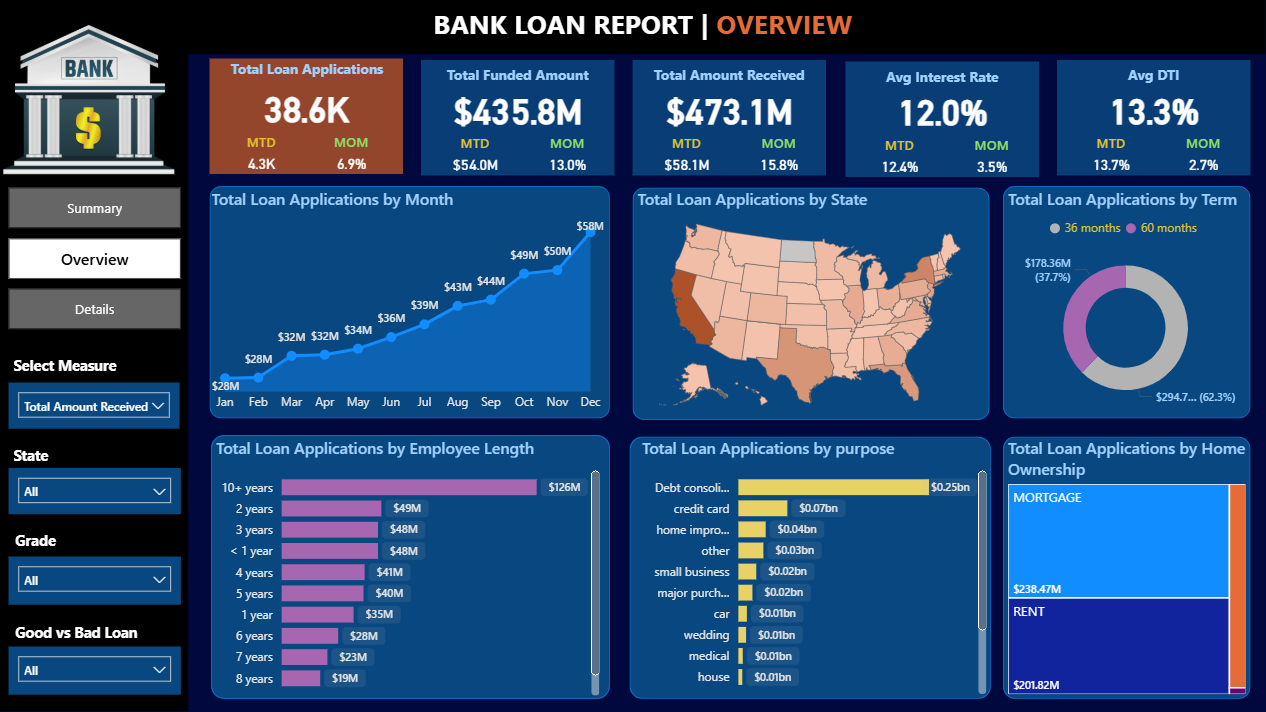

This screenshot's page, from the dashboard's own definition file:
{"tool":"powerbi","page":{"name":"Overview","canvas":[1280,720],"ordinal":1},"visuals":[{"type":"shape","box":[213.5,187.8,404.3,234.7],"z":0},{"type":"shape","box":[0,0,1279.5,54.5],"z":1000},{"type":"shape","box":[0,54.5,192.3,664.7],"z":2000},{"type":"shape","box":[213.3,59.1,195.3,116.6],"z":2000,"group":"g1"},{"type":"textbox","box":[434.6,0,443.7,54.5],"z":3000},{"type":"group","id":"g1","title":"Group 1","box":[209.9,53.8,202.9,121.9],"z":4000},{"type":"shape","box":[427.2,60.6,195.3,116.6],"z":4000,"group":"g2"},{"type":"shape","box":[641.1,60.6,195.3,116.6],"z":4000,"group":"g4"},{"type":"shape","box":[1069,60.6,195.3,116.6],"z":4000,"group":"g3"},{"type":"shape","box":[855.1,62.1,195.3,116.6],"z":4000,"group":"g5"},{"type":"card","fields":{"Values":["financial_loan.Tatal Loan Applications"]},"box":[213.3,81.8,195.3,51.5],"z":4000,"group":"g1"},{"type":"textbox","box":[209.9,53.8,202.9,46.9],"z":5000,"group":"g1"},{"type":"group","id":"g2","title":"Group 2","box":[427.2,60.6,195.3,116.6],"z":5000},{"type":"card","fields":{"Values":["financial_loan.Total Funded Amount"]},"box":[427.2,83.3,195.3,51.5],"z":5000,"group":"g2"},{"type":"card","fields":{"Values":["financial_loan.Total Amount Received"]},"box":[641.1,83.3,195.3,51.5],"z":5000,"group":"g4"},{"type":"card","fields":{"Values":["financial_loan.Avg DTI"]},"box":[1069,83.3,195.3,51.5],"z":5000,"group":"g3"},{"type":"card","fields":{"Values":["financial_loan.Avg Interest Rate"]},"box":[855.1,84.8,195.3,51.5],"z":5000,"group":"g5"},{"type":"textbox","box":[427.2,60.6,195.3,33.3],"z":6000,"group":"g2"},{"type":"textbox","box":[641.1,60.6,195.3,33.3],"z":6000,"group":"g4"},{"type":"group","id":"g3","title":"Group 2","box":[1069,60.6,195.3,116.6],"z":6000},{"type":"textbox","box":[1069,60.6,195.3,33.3],"z":6000,"group":"g3"},{"type":"textbox","box":[855.1,62.1,195.3,33.3],"z":6000,"group":"g5"},{"type":"card","title":"MTD","fields":{"Values":["financial_loan.MTD Loan Applications"]},"box":[228.4,133.3,74.2,42.4],"z":6000,"group":"g1"},{"type":"group","id":"g4","title":"Group 2","box":[641.1,60.6,195.3,116.6],"z":7000},{"type":"card","title":"MOM","fields":{"Values":["financial_loan.MOM Loan Application"]},"box":[319.3,133.3,74.2,42.4],"z":7000,"group":"g1"},{"type":"card","title":"MTD","fields":{"Values":["financial_loan.MTD Funded Amount"]},"box":[437.8,134.8,87.8,42.4],"z":7000,"group":"g2"},{"type":"card","title":"MTD","fields":{"Values":["financial_loan.MTD Total Amount Received"]},"box":[651.7,134.8,87.8,42.4],"z":7000,"group":"g4"},{"type":"card","title":"MTD","fields":{"Values":["financial_loan.MTD Avg DTI"]},"box":[1079.6,134.8,87.8,42.4],"z":7000,"group":"g3"},{"type":"card","title":"MTD","fields":{"Values":["financial_loan.MTD Avg Int Rate"]},"box":[865.7,136.3,87.8,42.4],"z":7000,"group":"g5"},{"type":"group","id":"g5","title":"Group 2","box":[855.1,62.1,195.3,116.6],"z":8000},{"type":"card","title":"MOM","fields":{"Values":["financial_loan.MOM Total Funded Amount"]},"box":[537.7,134.8,74.2,42.4],"z":8000,"group":"g2"},{"type":"card","title":"MOM","fields":{"Values":["financial_loan.MOM Total Amount Received"]},"box":[751.6,134.8,74.2,42.4],"z":8000,"group":"g4"},{"type":"card","title":"MOM","fields":{"Values":["financial_loan.MOM Avg DTI"]},"box":[1179.5,134.8,74.2,42.4],"z":8000,"group":"g3"},{"type":"card","title":"MOM","fields":{"Values":["financial_loan.MOM Avg Int Rate"]},"box":[965.6,136.3,74.2,42.4],"z":8000,"group":"g5"},{"type":"slicer","fields":{"Values":["financial_loan.address_state"]},"box":[10.6,471.9,174.1,46.9],"z":9000},{"type":"textbox","box":[10.6,443.2,63.6,31.8],"z":10000},{"type":"slicer","fields":{"Values":["financial_loan.grade"]},"box":[10.6,561.3,174.1,48.5],"z":11000},{"type":"textbox","box":[12.1,529.5,62.1,33.3],"z":12000},{"type":"slicer","fields":{"Values":["financial_loan.Good vs Bad Loan"]},"box":[10.6,652.1,174.1,48.5],"z":13000},{"type":"textbox","box":[12.1,621.9,137.8,30.3],"z":14000},{"type":"areaChart","title":"Total Loan Applications by Month","fields":{"Y":["financial_loan.Total Amount Received"],"Category":["Date Table.Month"]},"box":[210.5,189.3,405.8,234.7],"z":15000},{"type":"slicer","fields":{"Values":["Select Measure.Select Measure"]},"box":[10.6,385.6,172.6,46.9],"z":16000},{"type":"textbox","box":[10.6,352.3,119.6,43.9],"z":17000},{"type":"shape","box":[640.5,189.3,360.4,234.7],"z":18000},{"type":"shapeMap","title":"Total Loan Applications by State","fields":{"Value":["financial_loan.Total Amount Received"],"Category":["financial_loan.address_state"]},"box":[640.5,189.3,357.4,234.7],"z":19000},{"type":"shape","box":[1014.5,187.8,249.8,234.7],"z":20000},{"type":"donutChart","title":"Total Loan Applications by Term","fields":{"Y":["financial_loan.Total Amount Received"],"Category":["financial_loan.term"]},"box":[1014.5,189.3,246.8,233.2],"z":21000},{"type":"shape","box":[215,439.1,402.8,266.5],"z":22000},{"type":"barChart","title":"Total Loan Applications by Employee Length","fields":{"Y":["financial_loan.Total Amount Received"],"Category":["financial_loan.emp_length"]},"box":[215,440.6,396.7,266.5],"z":23000},{"type":"shape","box":[637.5,440.6,364.9,265],"z":24000},{"type":"barChart","title":"Total Loan Applications by purpose","fields":{"Y":["financial_loan.Total Amount Received"],"Category":["financial_loan.purpose"]},"box":[645.1,440.6,357.4,265],"z":25000},{"type":"shape","box":[1014.5,440.6,249.8,265],"z":26000},{"type":"treemap","title":"Total Loan Applications by Home Ownership","fields":{"Values":["financial_loan.Total Amount Received"],"Group":["financial_loan.home_ownership"]},"box":[1014.5,440.6,249.8,265],"z":27000},{"type":"pageNavigator","box":[10.6,189.3,174.1,145.4],"z":28000},{"type":"image","box":[0,4.5,183.2,192.3],"z":29000}]}

Visuals, with their boxes in screenshot pixels (x1, y1, x2, y2), scaled from the page's 1280x720 canvas onto the 1266x712 screenshot:
shape: bbox(211, 186, 611, 418)
shape: bbox(0, 0, 1265, 54)
shape: bbox(0, 54, 190, 711)
shape: bbox(211, 58, 404, 174)
textbox: bbox(430, 0, 869, 54)
"Group 1" group: bbox(208, 53, 408, 174)
shape: bbox(423, 60, 616, 175)
shape: bbox(634, 60, 827, 175)
shape: bbox(1057, 60, 1250, 175)
shape: bbox(846, 61, 1039, 177)
card - financial_loan.Tatal Loan Applications: bbox(211, 81, 404, 132)
textbox: bbox(208, 53, 408, 100)
"Group 2" group: bbox(423, 60, 616, 175)
card - financial_loan.Total Funded Amount: bbox(423, 82, 616, 133)
card - financial_loan.Total Amount Received: bbox(634, 82, 827, 133)
card - financial_loan.Avg DTI: bbox(1057, 82, 1250, 133)
card - financial_loan.Avg Interest Rate: bbox(846, 84, 1039, 135)
textbox: bbox(423, 60, 616, 93)
textbox: bbox(634, 60, 827, 93)
"Group 2" group: bbox(1057, 60, 1250, 175)
textbox: bbox(1057, 60, 1250, 93)
textbox: bbox(846, 61, 1039, 94)
"MTD" card: bbox(226, 132, 299, 174)
"Group 2" group: bbox(634, 60, 827, 175)
"MOM" card: bbox(316, 132, 389, 174)
"MTD" card: bbox(433, 133, 520, 175)
"MTD" card: bbox(645, 133, 731, 175)
"MTD" card: bbox(1068, 133, 1155, 175)
"MTD" card: bbox(856, 135, 943, 177)
"Group 2" group: bbox(846, 61, 1039, 177)
"MOM" card: bbox(532, 133, 605, 175)
"MOM" card: bbox(743, 133, 817, 175)
"MOM" card: bbox(1167, 133, 1240, 175)
"MOM" card: bbox(955, 135, 1028, 177)
slicer - financial_loan.address_state: bbox(10, 467, 183, 513)
textbox: bbox(10, 438, 73, 470)
slicer - financial_loan.grade: bbox(10, 555, 183, 603)
textbox: bbox(12, 524, 73, 557)
slicer - financial_loan.Good vs Bad Loan: bbox(10, 645, 183, 693)
textbox: bbox(12, 615, 148, 645)
"Total Loan Applications by Month" areaChart: bbox(208, 187, 610, 419)
slicer - Select Measure.Select Measure: bbox(10, 381, 181, 428)
textbox: bbox(10, 348, 129, 392)
shape: bbox(633, 187, 990, 419)
"Total Loan Applications by State" shapeMap: bbox(633, 187, 987, 419)
shape: bbox(1003, 186, 1250, 418)
"Total Loan Applications by Term" donutChart: bbox(1003, 187, 1248, 418)
shape: bbox(213, 434, 611, 698)
"Total Loan Applications by Employee Length" barChart: bbox(213, 436, 605, 699)
shape: bbox(631, 436, 991, 698)
"Total Loan Applications by purpose" barChart: bbox(638, 436, 992, 698)
shape: bbox(1003, 436, 1250, 698)
"Total Loan Applications by Home Ownership" treemap: bbox(1003, 436, 1250, 698)
pageNavigator: bbox(10, 187, 183, 331)
image: bbox(0, 4, 181, 195)
